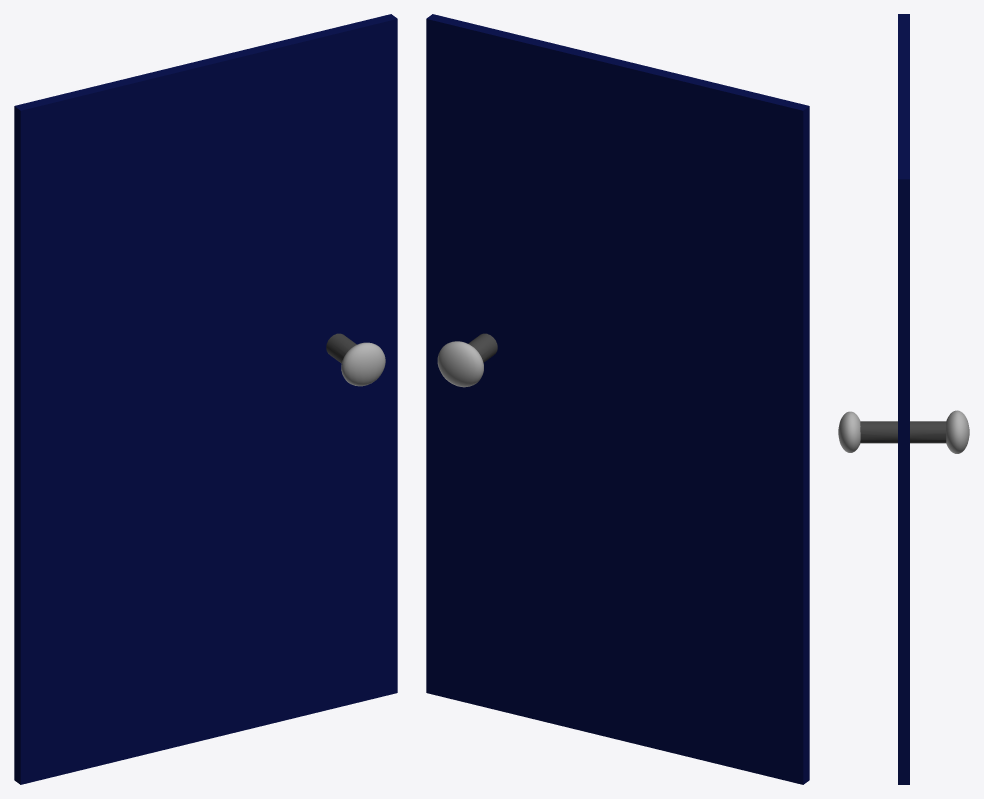
File: door remade 2.fbx
The picture shows the model from 3 angles, left to right: view 1: azimuth 30°, elevation 25°; view 2: azimuth 150°, elevation 25°; view 3: azimuth 270°, elevation 25°; orthographic projection. The views are drawn at different scales.
Visible parts, largest first — view 1: polySurface6; view 2: polySurface6; view 3: polySurface6.
Part boxes in pixels (x1,y1,x2,y2): polySurface6: (14, 14, 397, 784); polySurface6: (426, 14, 809, 784); polySurface6: (838, 14, 969, 784).
Size of the model in its own units: 24 by 41 by 8.06.
